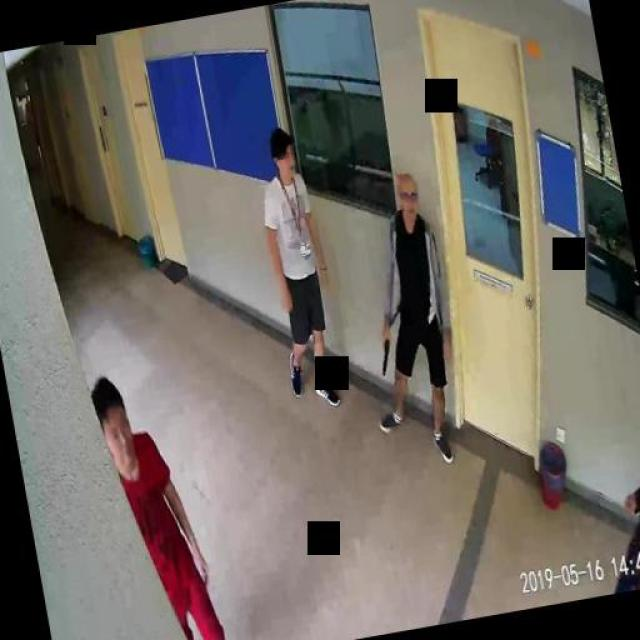gun: (374, 332, 394, 373)
